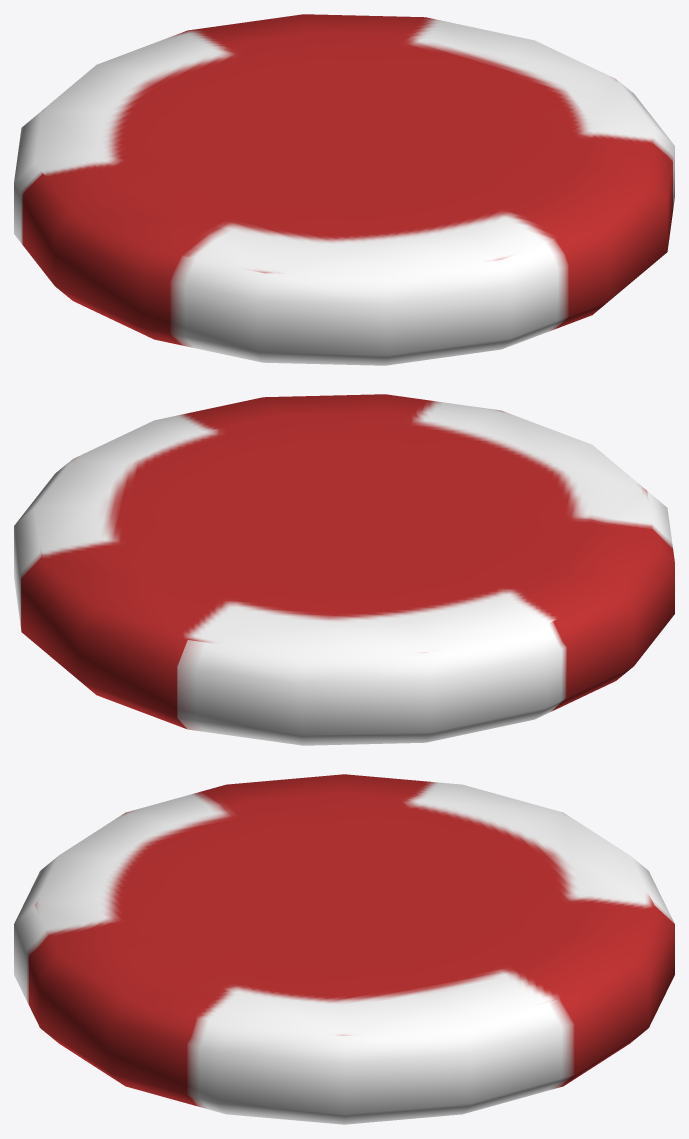
File: poker_chip.fbx
3 views of the same model, one above another, from view 1: azimuth 30°, elevation 25°; view 2: azimuth 150°, elevation 25°; view 3: azimuth 270°, elevation 25° (orthographic).
Parts seen in each view (by area): view 1: Poker_chip:poker_chip; view 2: Poker_chip:poker_chip; view 3: Poker_chip:poker_chip.
Part boxes in pixels (left/top/right/bottom): Poker_chip:poker_chip: left=14, top=14, right=674, bottom=365; Poker_chip:poker_chip: left=14, top=394, right=674, bottom=745; Poker_chip:poker_chip: left=14, top=774, right=674, bottom=1124.
Size of the model in its own units: 0.3297 by 0.0557 by 0.3297.
1 material, 1 textured.
